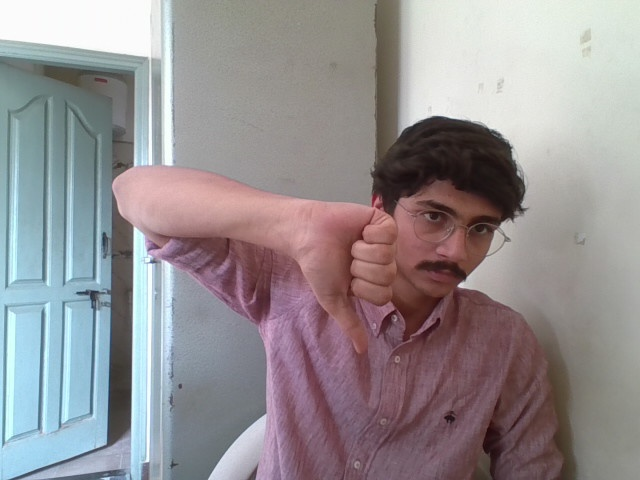OOPS: (283, 168, 413, 378)
